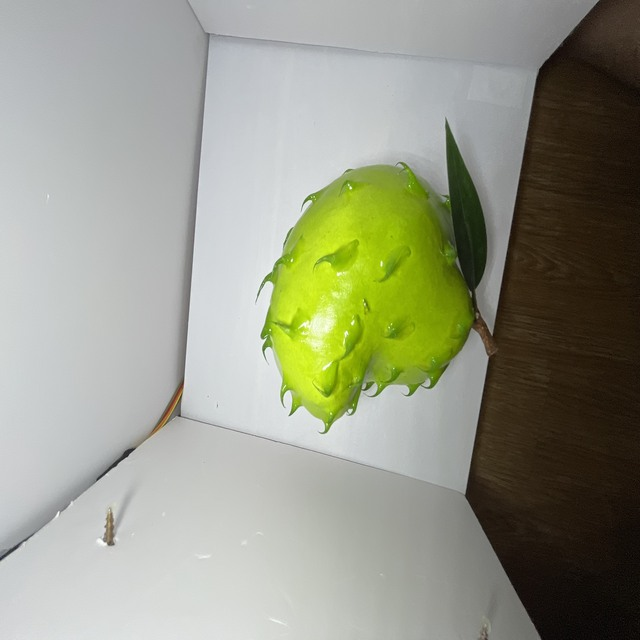Man cau: (245, 151, 495, 435)
